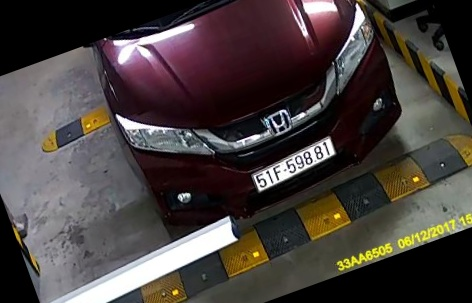plate: (249, 137, 340, 201)
